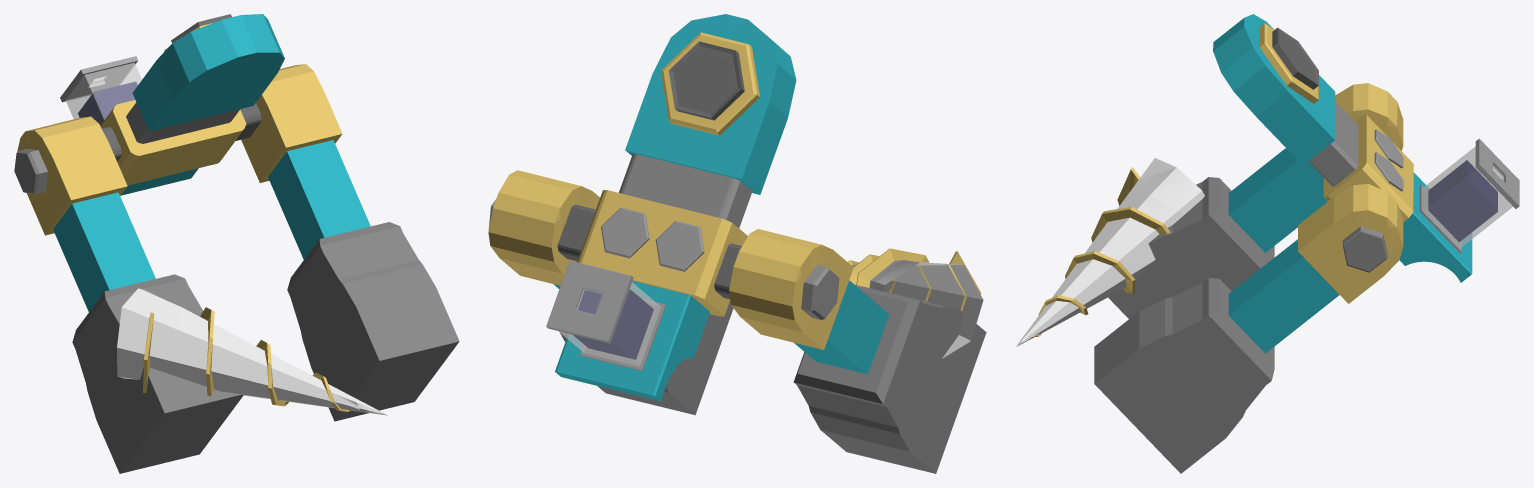
The model's file is Broken miner.fbx.
3 renders of one model, left to right at view 1: azimuth 30°, elevation 25°; view 2: azimuth 150°, elevation 25°; view 3: azimuth 270°, elevation 25°, orthographic. The views are drawn at different scales.
Parts seen in each view (by area): view 1: Broken miner; view 2: Broken miner; view 3: Broken miner.
Boxes of the visible parts, bbox=[...] form: Broken miner: bbox=[14, 14, 459, 473]; Broken miner: bbox=[488, 14, 986, 473]; Broken miner: bbox=[1016, 14, 1519, 473].
Size of the model in its own units: 208 by 248 by 297.
